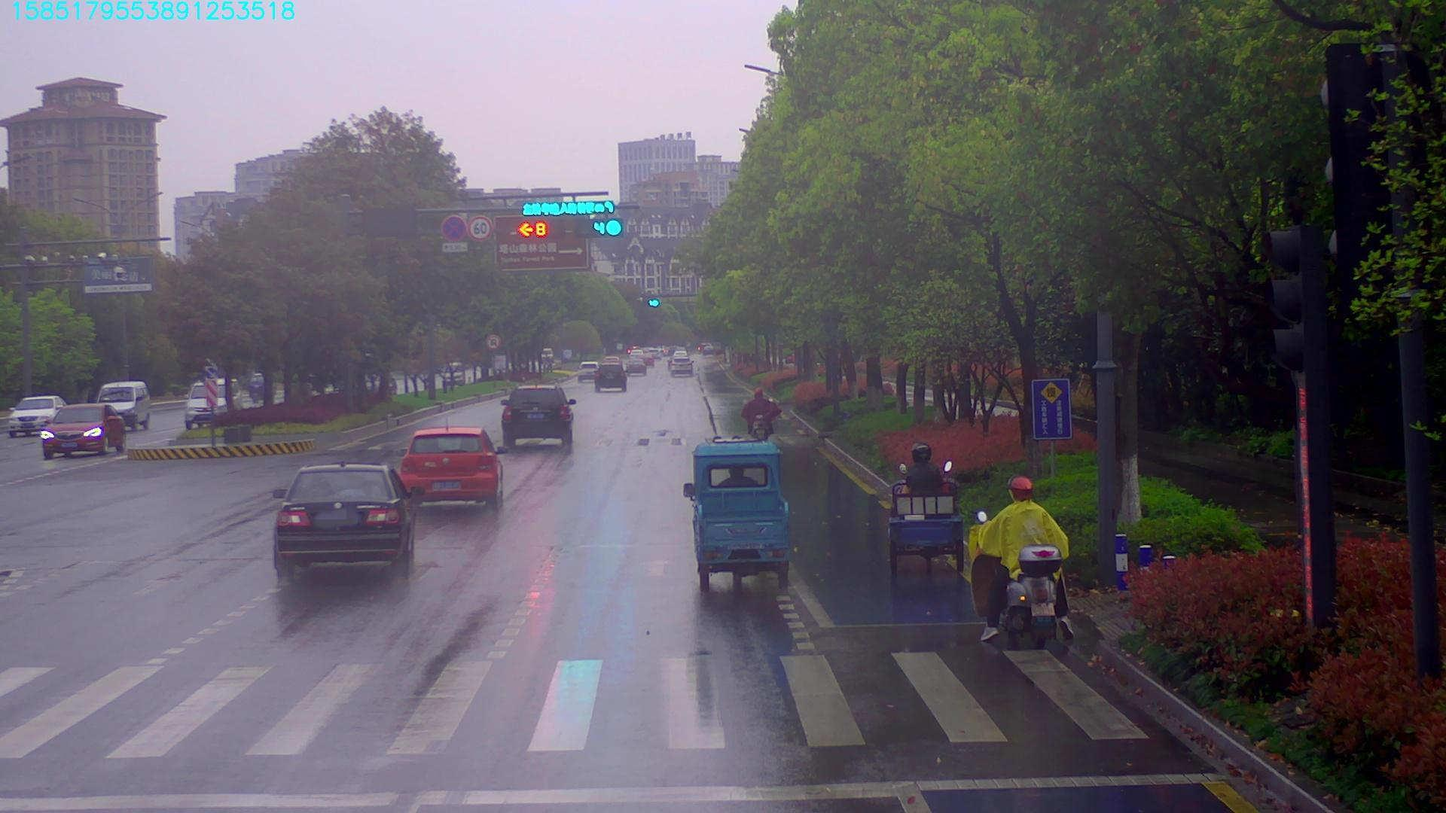green: (587, 220, 622, 236)
red: (511, 218, 559, 236)
wait_on: (523, 200, 614, 211)
